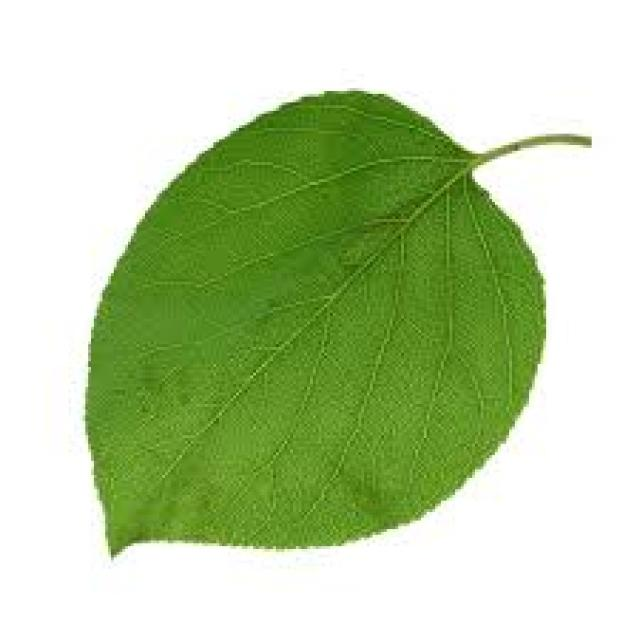yaprak: (94, 120, 520, 520)
